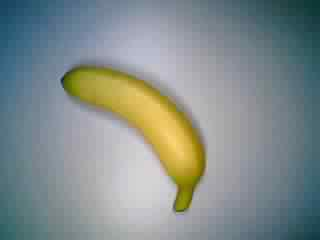banana: (58, 62, 211, 217)
